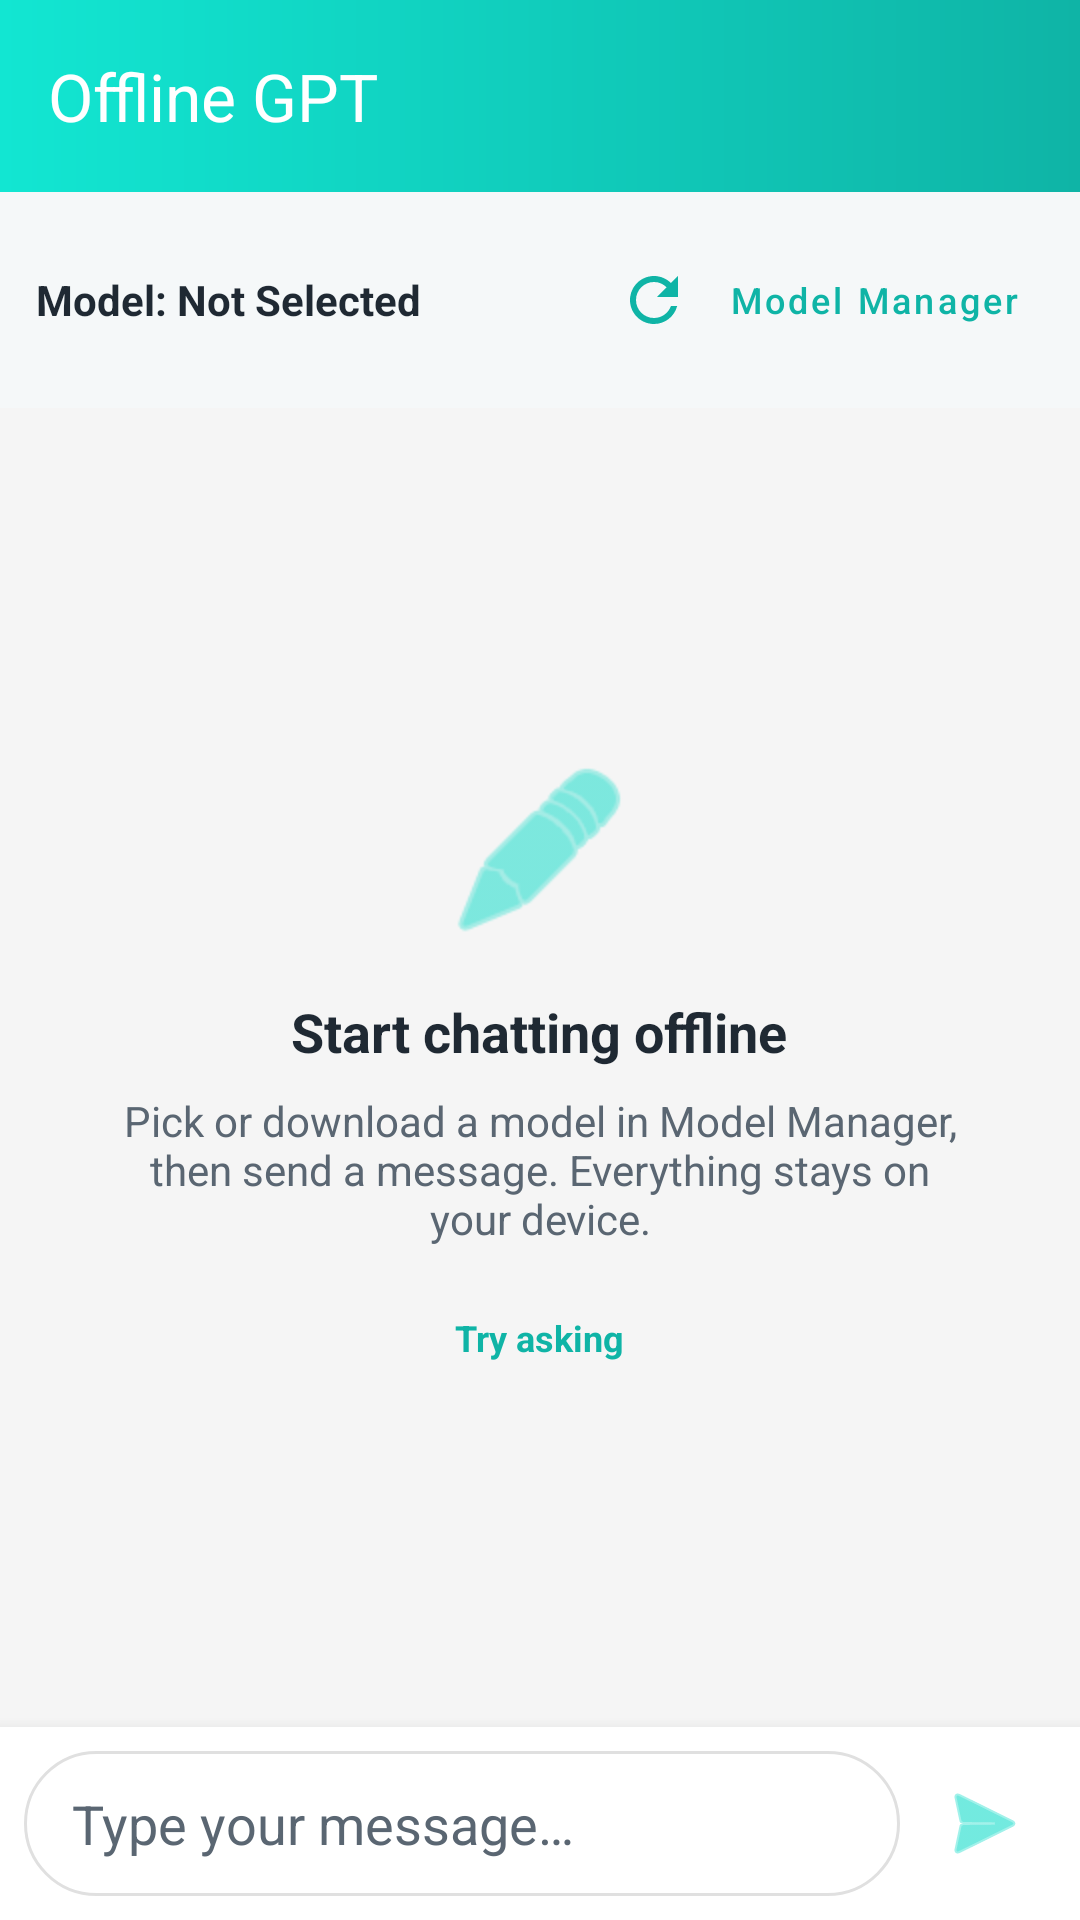

Screen size 1080 × 1920. Icon name, then its center in pixels as [x,y]:
Send: [985,1823]
